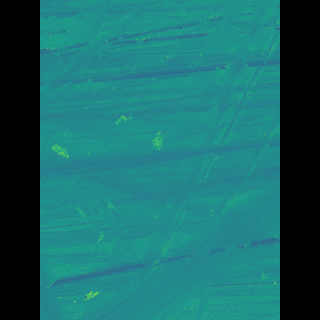Loch: (97, 180, 249, 320), (79, 0, 153, 88)
